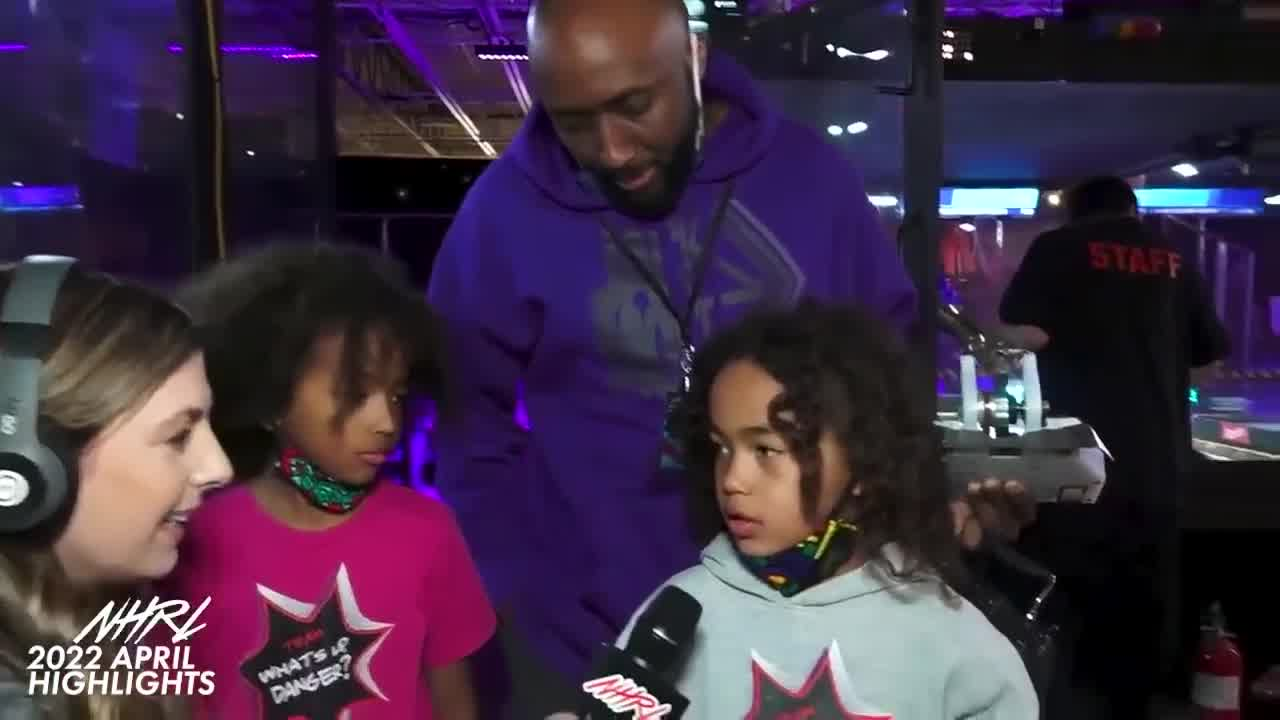combatbot: (930, 354, 1110, 509)
